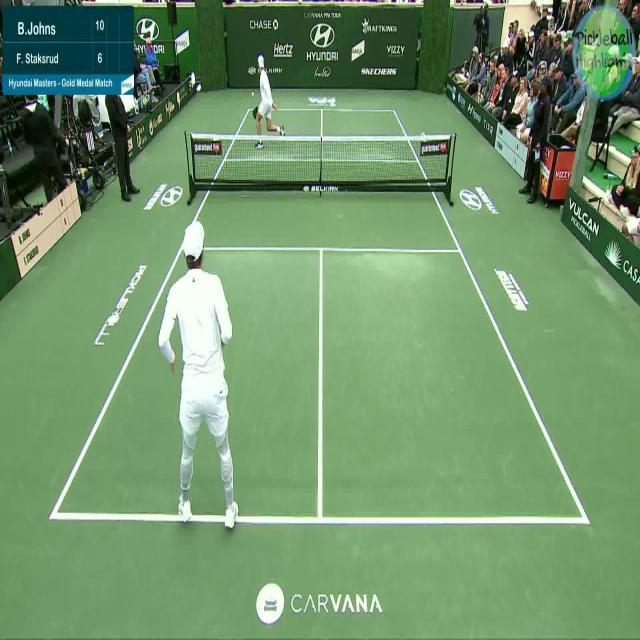ball: (251, 90, 256, 97)
